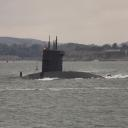submarine: (14, 35, 114, 81)
